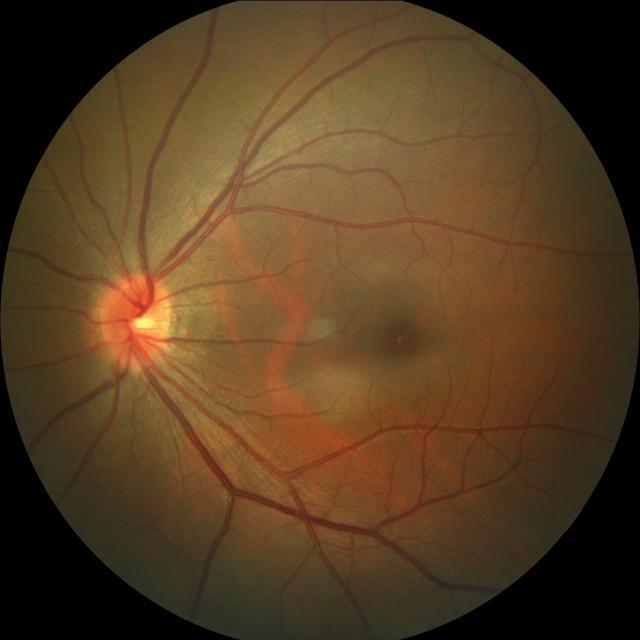OC: (128, 312, 159, 333)
OD: (96, 271, 174, 370)
